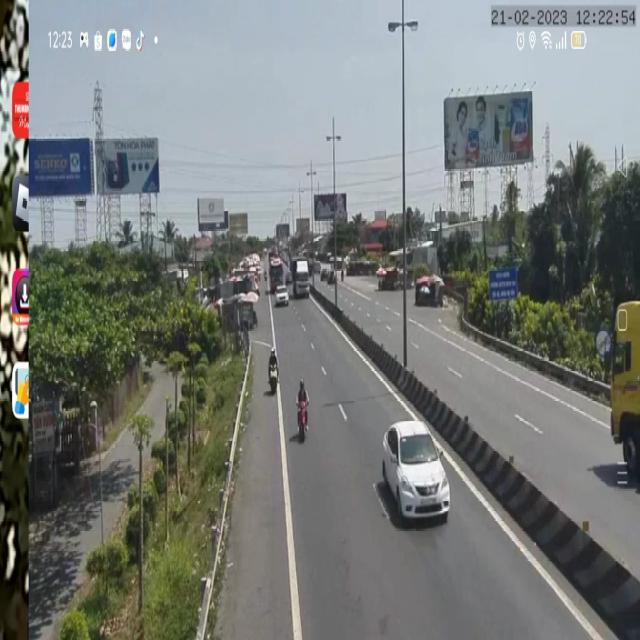car: (378, 420, 451, 526), (273, 284, 289, 306)
motorbike: (295, 378, 315, 442), (268, 346, 279, 393)
truck: (611, 293, 640, 491), (292, 259, 310, 298)
